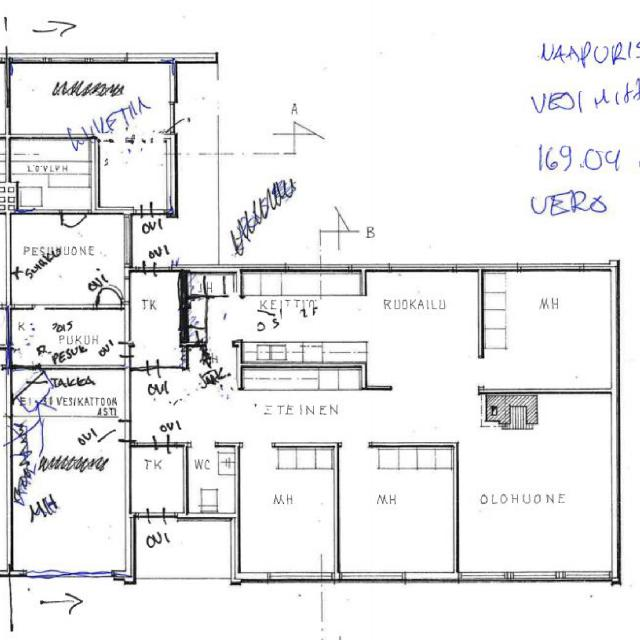door: (60, 208, 87, 240), (95, 278, 122, 308)
